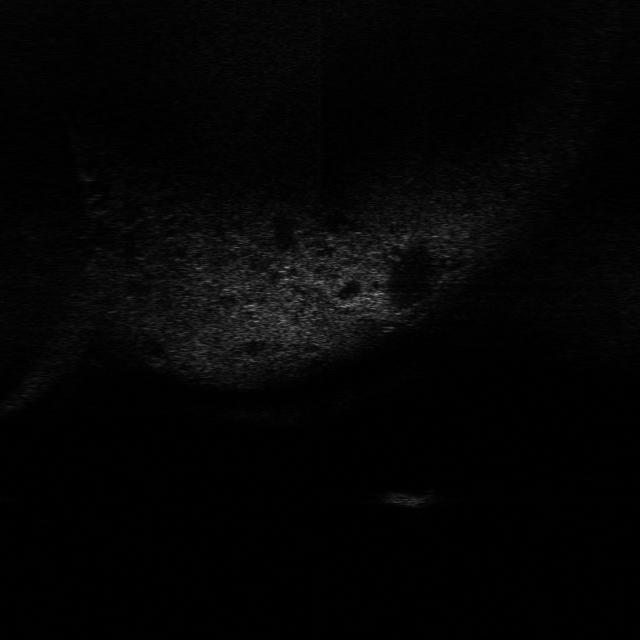cube: (374, 482, 440, 510)
